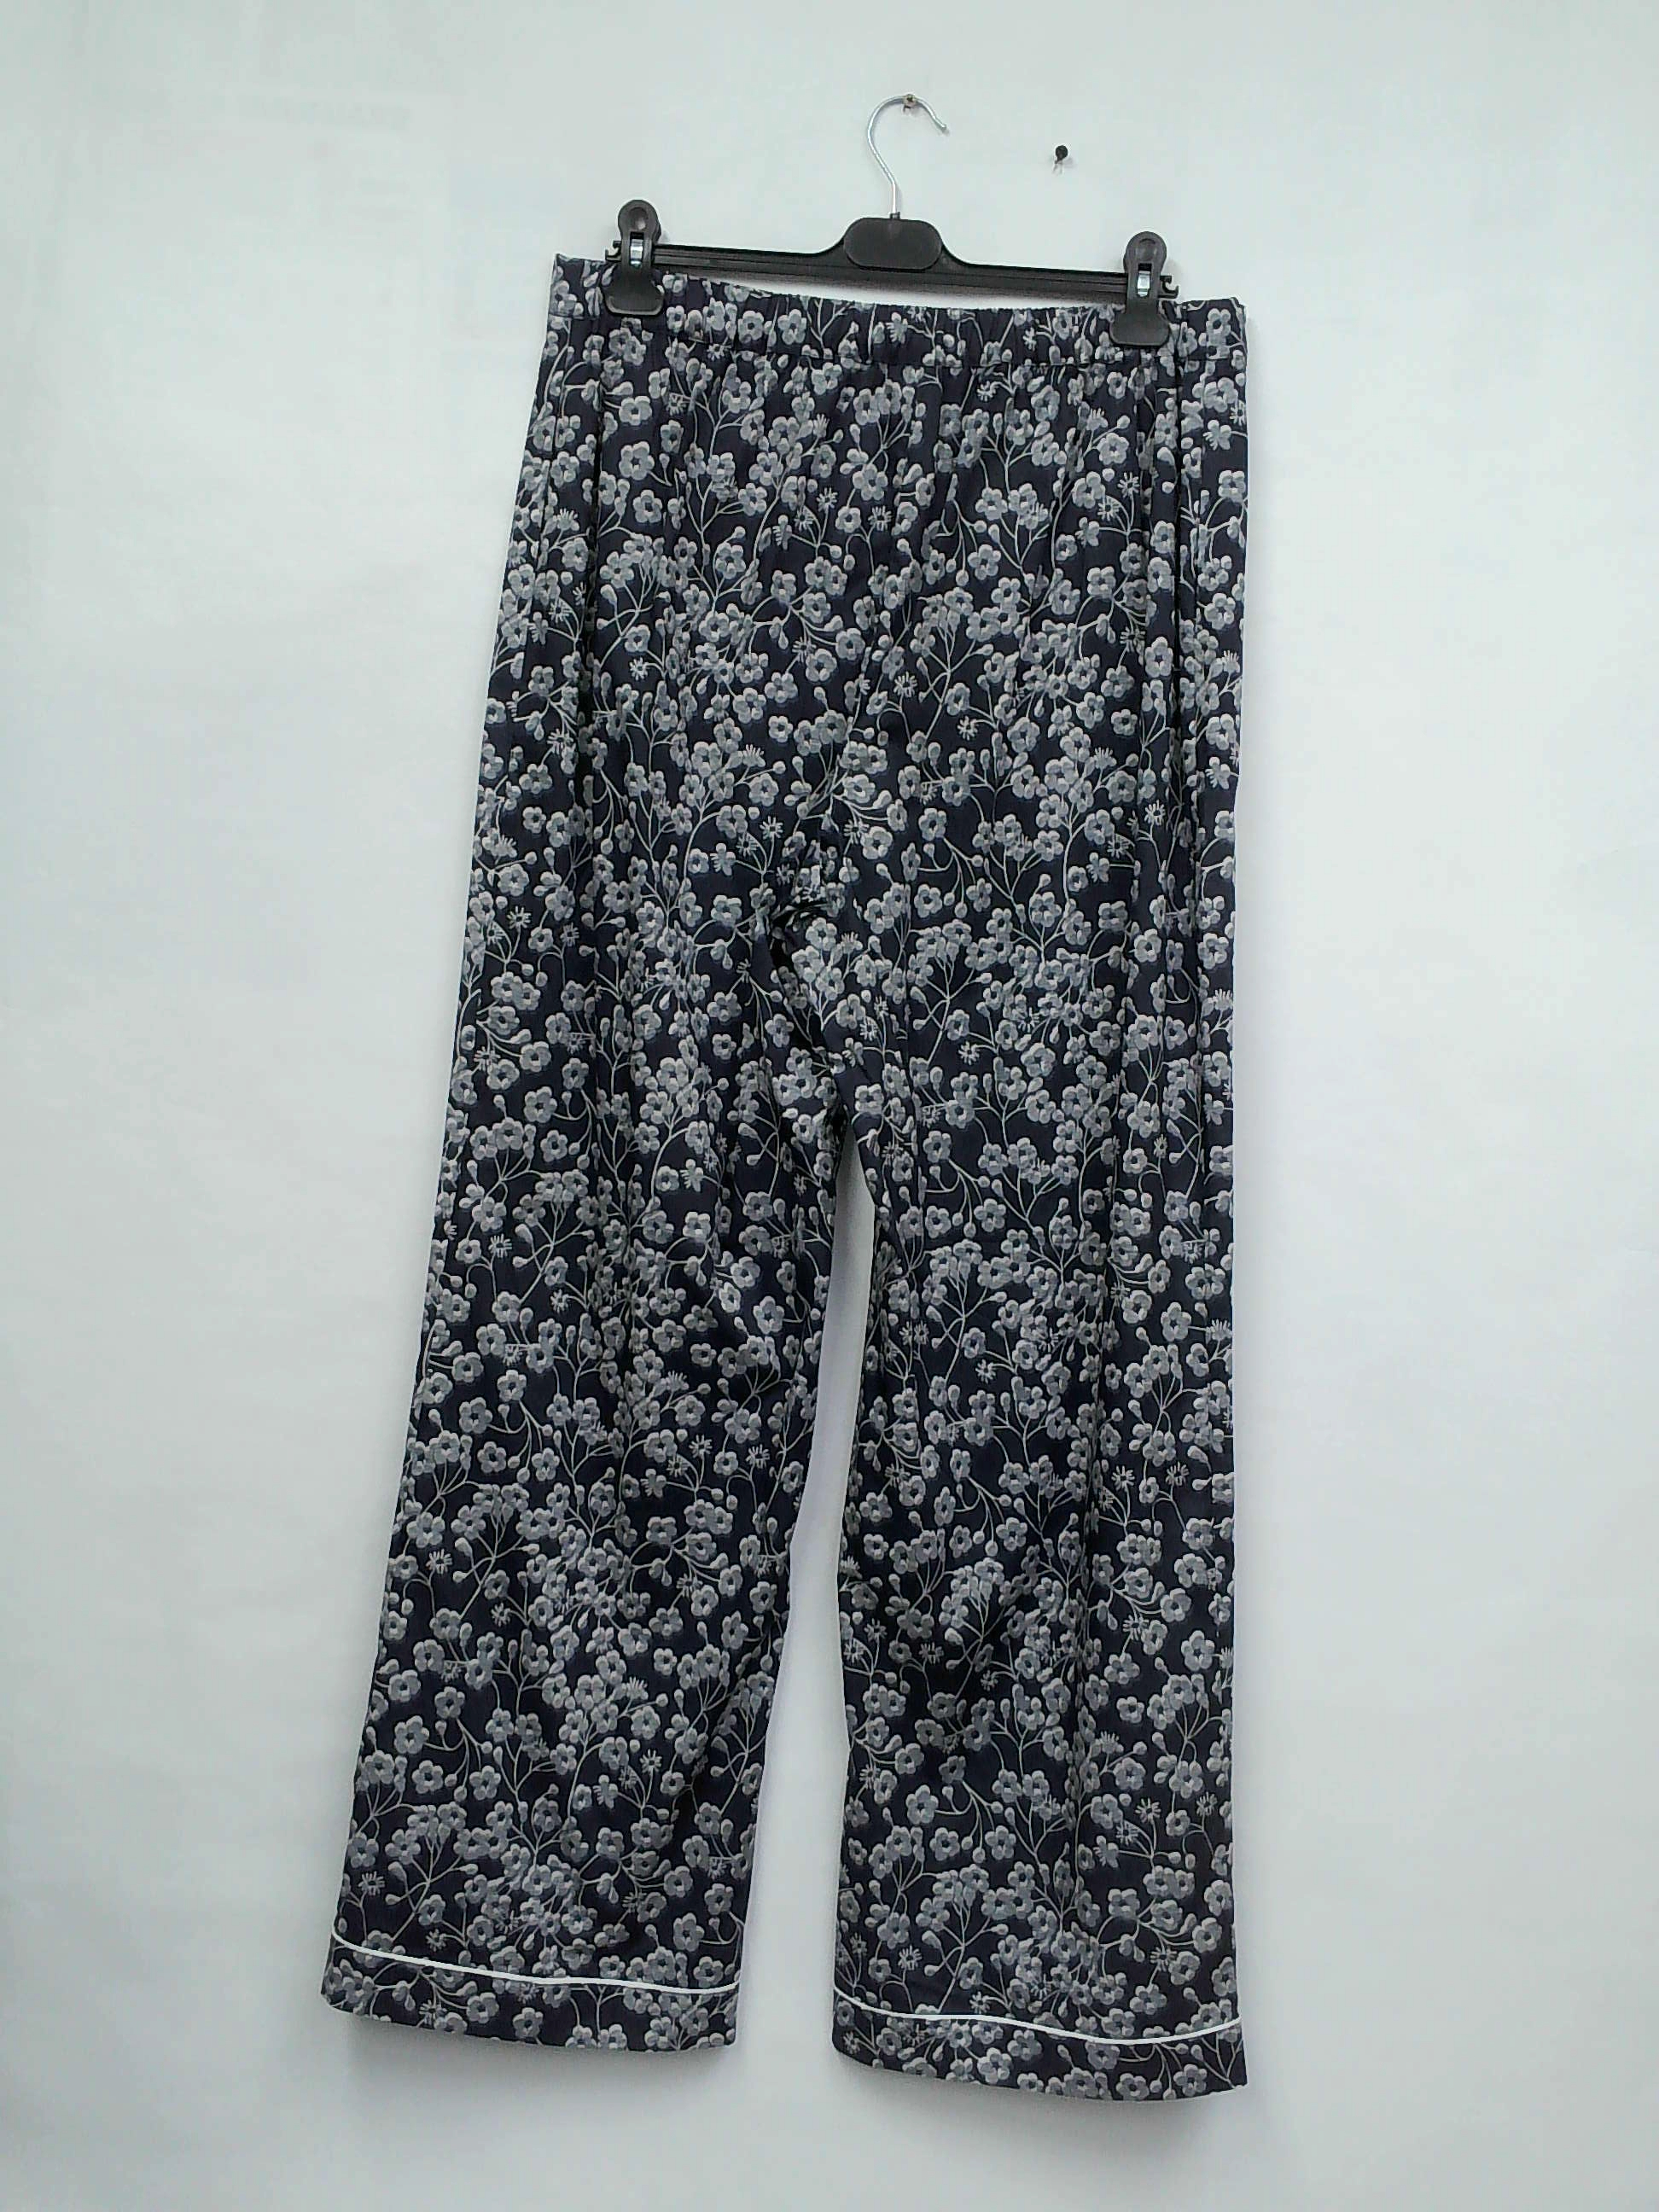seam: (934, 1968, 1133, 2059)
